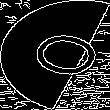O_E: (10, 26, 100, 84)
